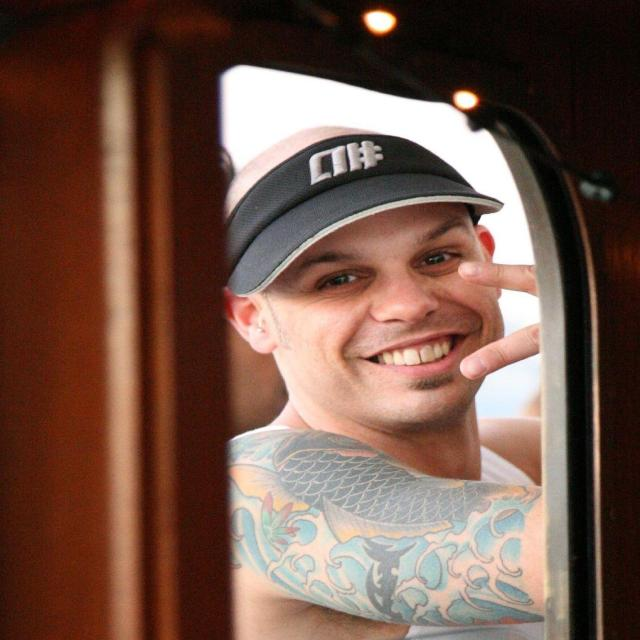no-glass: (309, 249, 470, 292)
